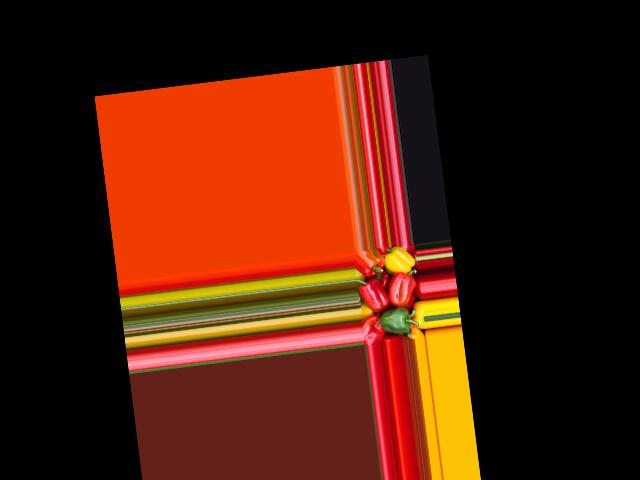bell_pepper: (380, 244, 418, 277)
